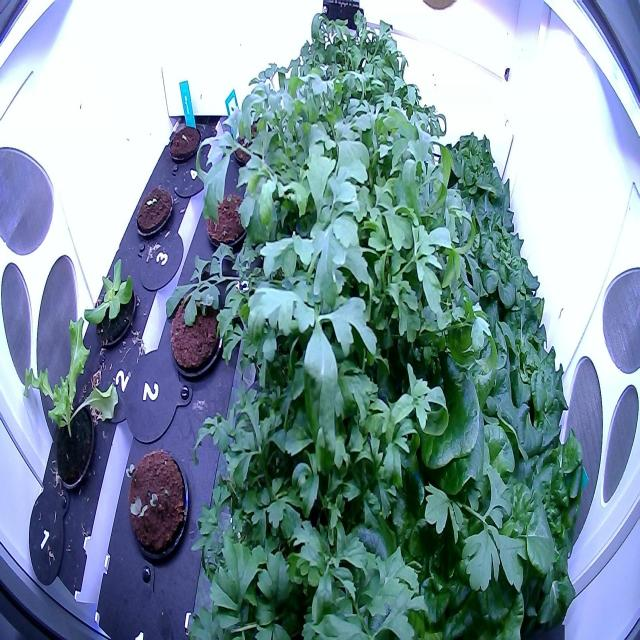germination: (120, 442, 194, 569), (203, 176, 252, 252), (130, 175, 177, 246)
pod: (168, 281, 225, 383), (164, 116, 205, 167)
young: (82, 253, 138, 359)
